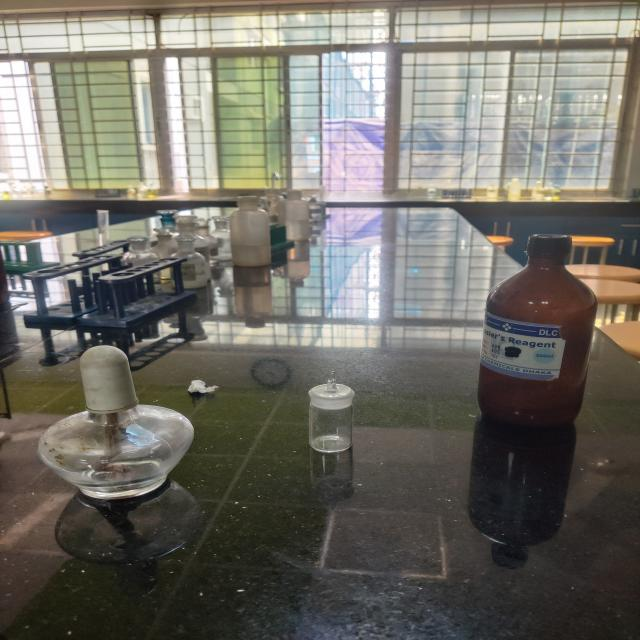Nessler_Reagent_Bottle: (473, 223, 618, 441)
Spirit_Lamp: (27, 337, 202, 509)
Weighing_Bottle: (294, 370, 376, 462)
